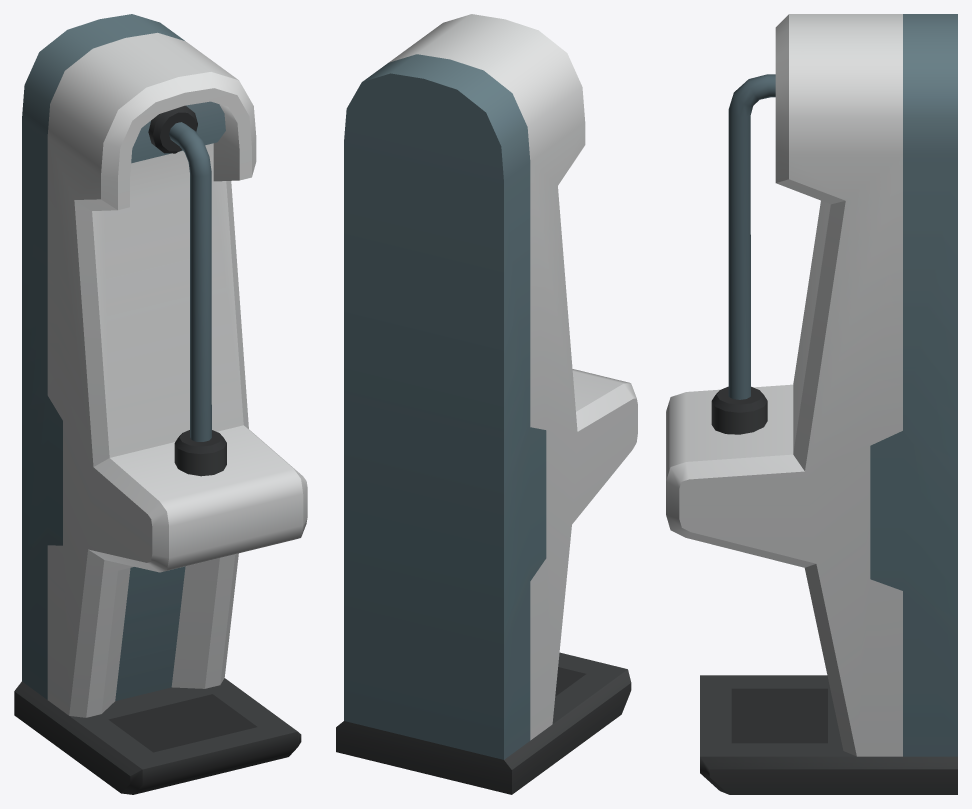
The model's file is Terminal_005.fbx.
3 views of the same model, side by side, from view 1: azimuth 30°, elevation 25°; view 2: azimuth 150°, elevation 25°; view 3: azimuth 270°, elevation 25° (orthographic). The views are drawn at different scales.
Visible parts, largest first — view 1: Terminal_005; view 2: Terminal_005; view 3: Terminal_005.
Boxes of the visible parts, box(x1,y1,x2,y2) form: Terminal_005: box(14, 14, 307, 794); Terminal_005: box(336, 14, 637, 794); Terminal_005: box(666, 14, 957, 794).
Bounding box in the file's own units: 55.62 × 76.9 × 210.
